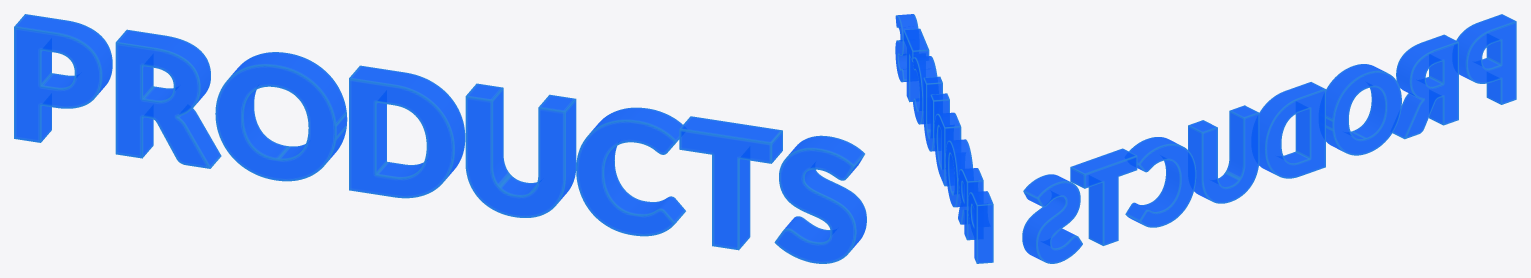
Rendered from FeatureProduct_Title.gltf.
3 views of the same model, side by side, from view 1: azimuth 30°, elevation 25°; view 2: azimuth 150°, elevation 25°; view 3: azimuth 270°, elevation 25° (orthographic). The views are drawn at different scales.
Parts seen in each view (by area): view 1: Text170; view 2: Text170; view 3: Text170.
Part boxes in pixels (box(x1,y1,x2,y2)): Text170: box(14, 14, 866, 263); Text170: box(895, 14, 993, 263); Text170: box(1022, 14, 1516, 263).
Bounding box in the file's own units: 369 × 77.62 × 434.
1 material, 1 textured.
